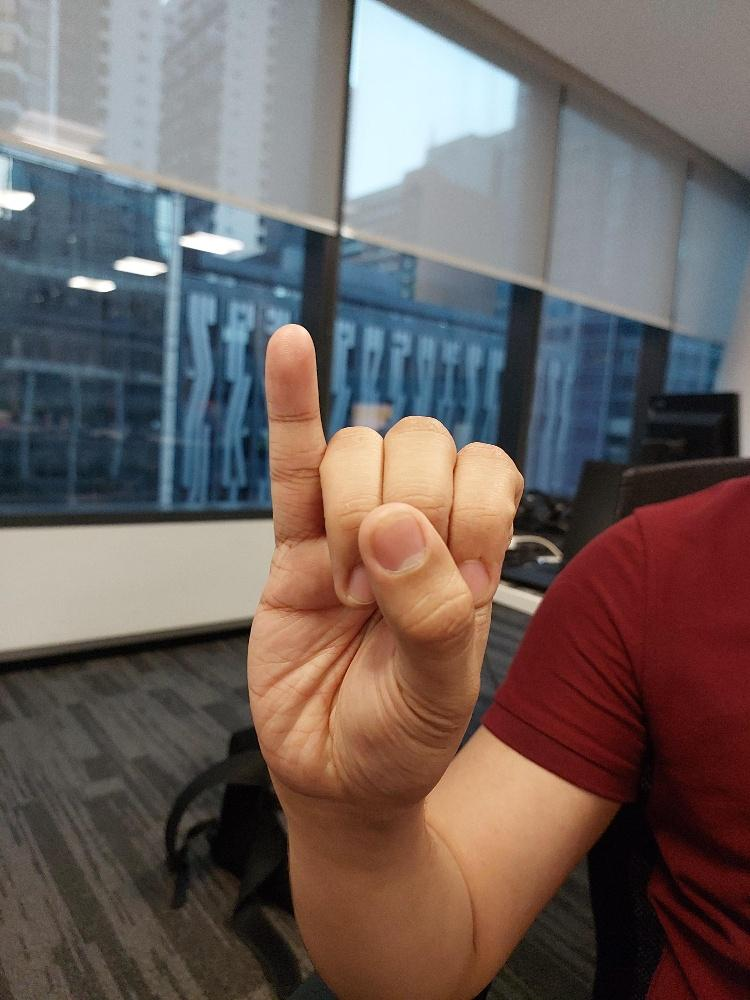i: (244, 319, 528, 813)
